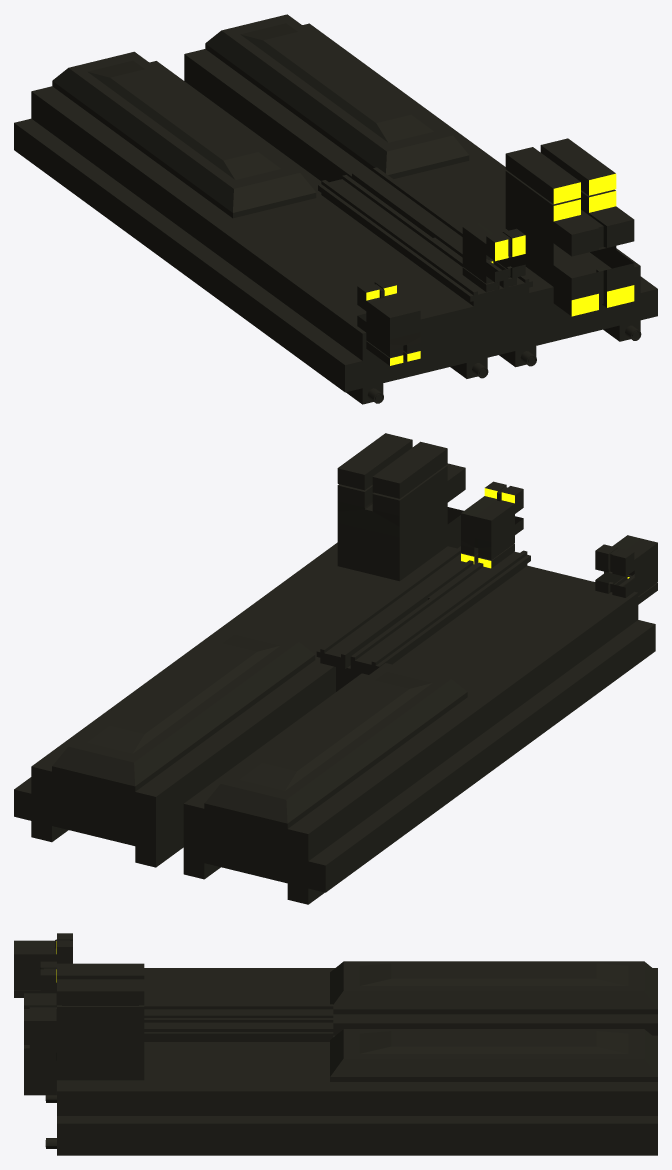
Rendered from Train.fbx.
3 views of the same model, one above another, from view 1: azimuth 30°, elevation 25°; view 2: azimuth 150°, elevation 25°; view 3: azimuth 270°, elevation 25° (orthographic). The views are drawn at different scales.
Visible parts, largest first — view 1: Cube, Cube.003, Cube.001, Cube.004, Cube.005, Cube.007; view 2: Cube, Cube.003, Cube.001, Cube.004, Cube.007, Cube.005; view 3: Cube, Cube.003, Cube.001, Cube.004, Cube.005, Cube.007.
Part boxes in pixels (<box>): Cube: <box>14,23,657,404</box>; Cube.003: <box>52,14,469,218</box>; Cube.001: <box>505,138,634,316</box>; Cube.004: <box>318,167,532,306</box>; Cube.005: <box>357,279,420,365</box>; Cube.007: <box>462,219,525,292</box>; Cube: <box>14,542,655,904</box>; Cube.003: <box>52,626,467,828</box>; Cube.001: <box>337,433,465,581</box>; Cube.004: <box>316,546,530,674</box>; Cube.007: <box>461,481,523,568</box>; Cube.005: <box>595,535,657,604</box>; Cube: <box>57,968,657,1155</box>; Cube.003: <box>330,961,657,1081</box>; Cube.001: <box>24,963,144,1095</box>; Cube.004: <box>144,1004,333,1041</box>; Cube.005: <box>14,933,72,997</box>; Cube.007: <box>40,961,56,993</box>.
Bounding box in the file's own units: 600 × 315 × 1178.
